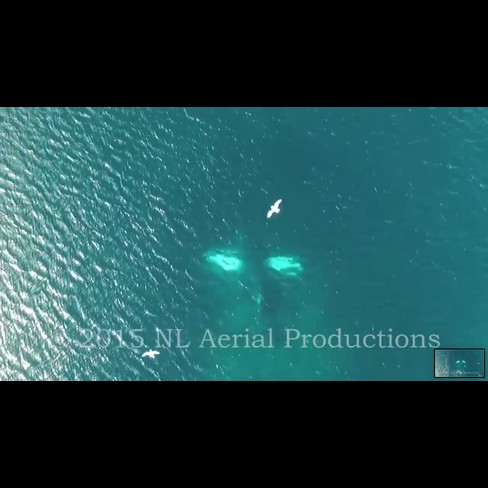hump: (201, 214, 310, 332)
